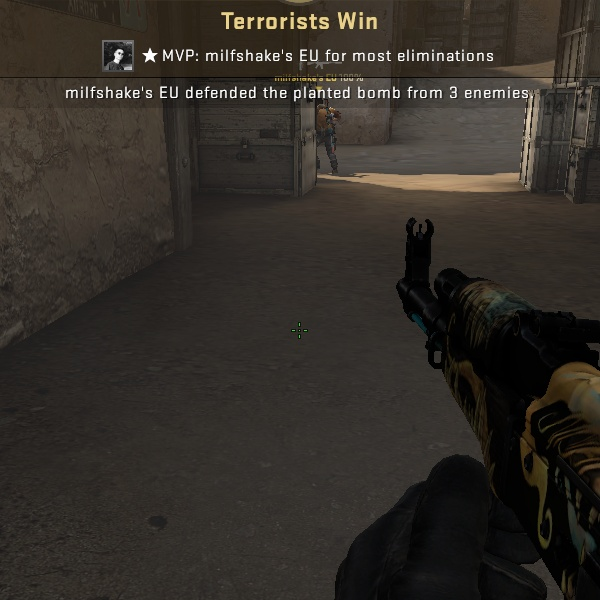t_body: (310, 98, 344, 175)
